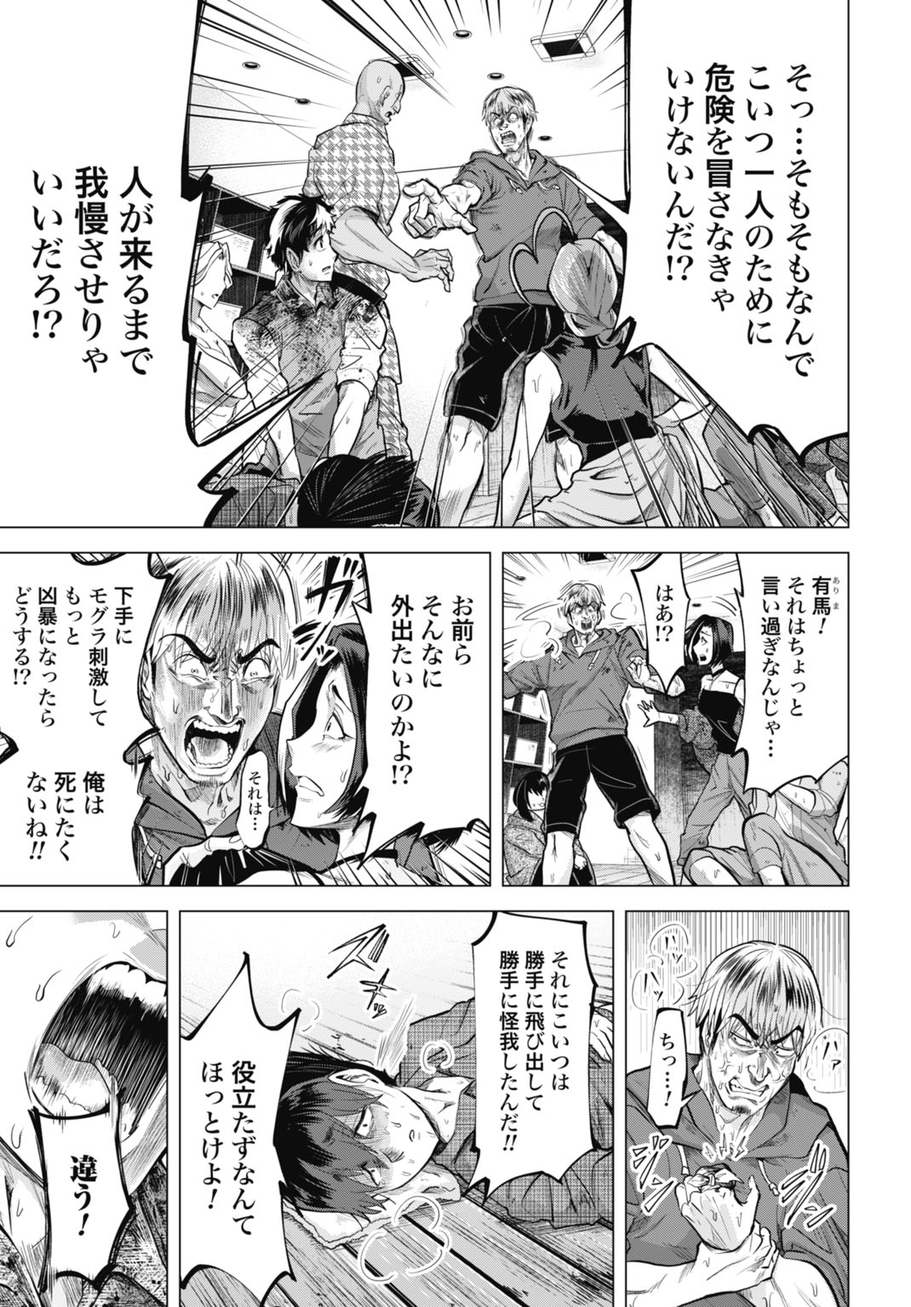bubbles: (1, 1, 328, 528), (597, 1, 850, 463), (1, 554, 162, 886), (327, 555, 490, 875), (179, 942, 306, 1307), (458, 910, 602, 1205), (713, 552, 849, 808), (23, 1093, 149, 1290), (619, 551, 707, 703), (645, 1001, 701, 1139), (233, 751, 279, 856)
